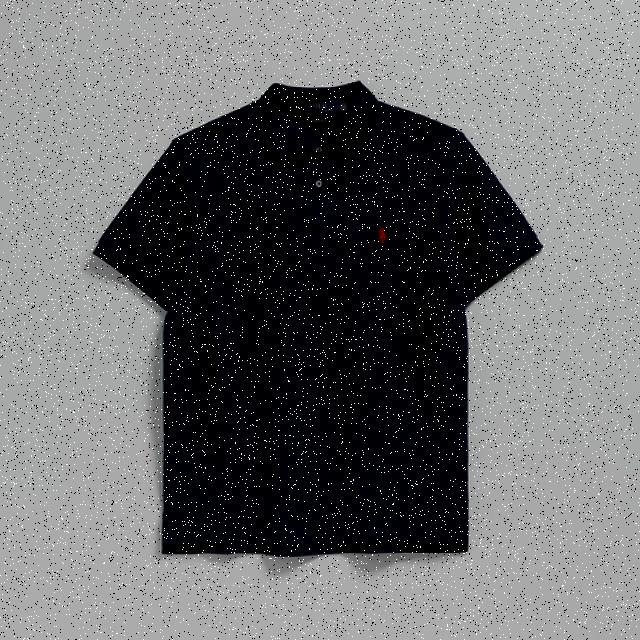dress: (96, 82, 542, 555)
